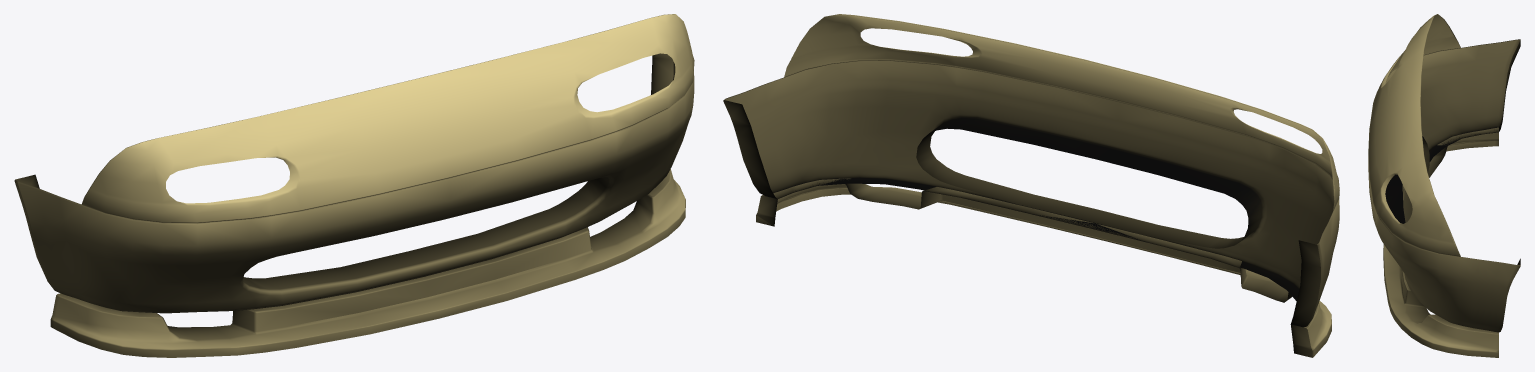
The model's file is MX5_FB04_Duco.fbx.
3 views of the same model, side by side, from view 1: azimuth 30°, elevation 25°; view 2: azimuth 150°, elevation 25°; view 3: azimuth 270°, elevation 25° (orthographic). The views are drawn at different scales.
Parts seen in each view (by area): view 1: MX5_FB04_Duco; view 2: MX5_FB04_Duco; view 3: MX5_FB04_Duco.
Part boxes in pixels (<box>): MX5_FB04_Duco: <box>14,14,694,357</box>; MX5_FB04_Duco: <box>723,14,1339,357</box>; MX5_FB04_Duco: <box>1368,14,1520,357</box>.
Size of the model in its own units: 157 by 50.28 by 44.65.
